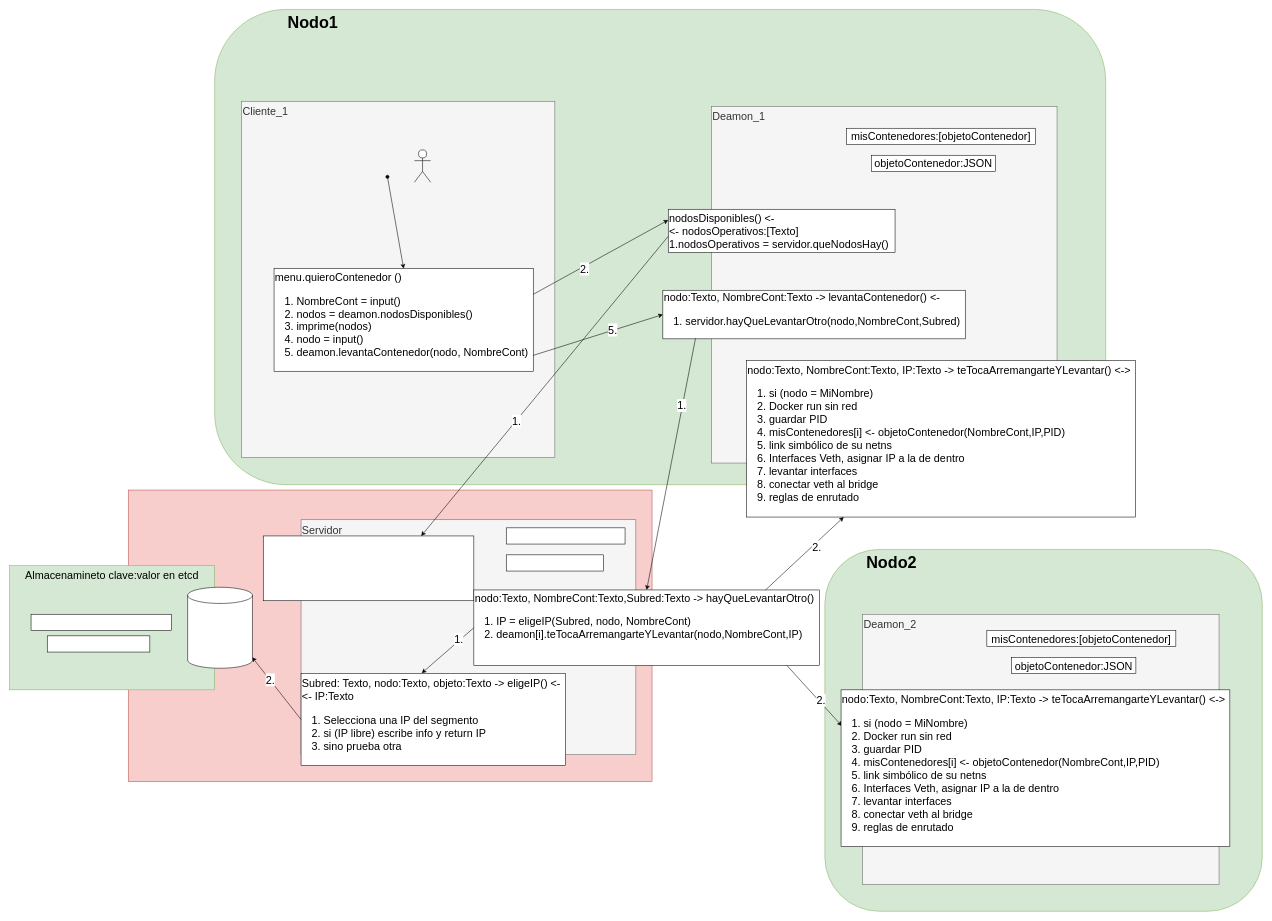
The diagram is 1272 pixels wide and 921 high, and some of its shapes have lost their labels. The centre of each missing label's shape, as x and y in pixels:
Actor: (x=422, y=165)
etcd: (x=219, y=627)
infoNodos:[objetoNodo]: (x=565, y=535)
IP:{IP,Nodo,Objeto}: (x=98, y=643)
Objeto: bridge||Contenedor: (x=101, y=622)
objetoNodo:JSON: (x=554, y=562)
queNodosHay() <- <- nodosOperativos:[Texto] nodosOperativos <- infoNodos[i].nodo: (x=368, y=568)
